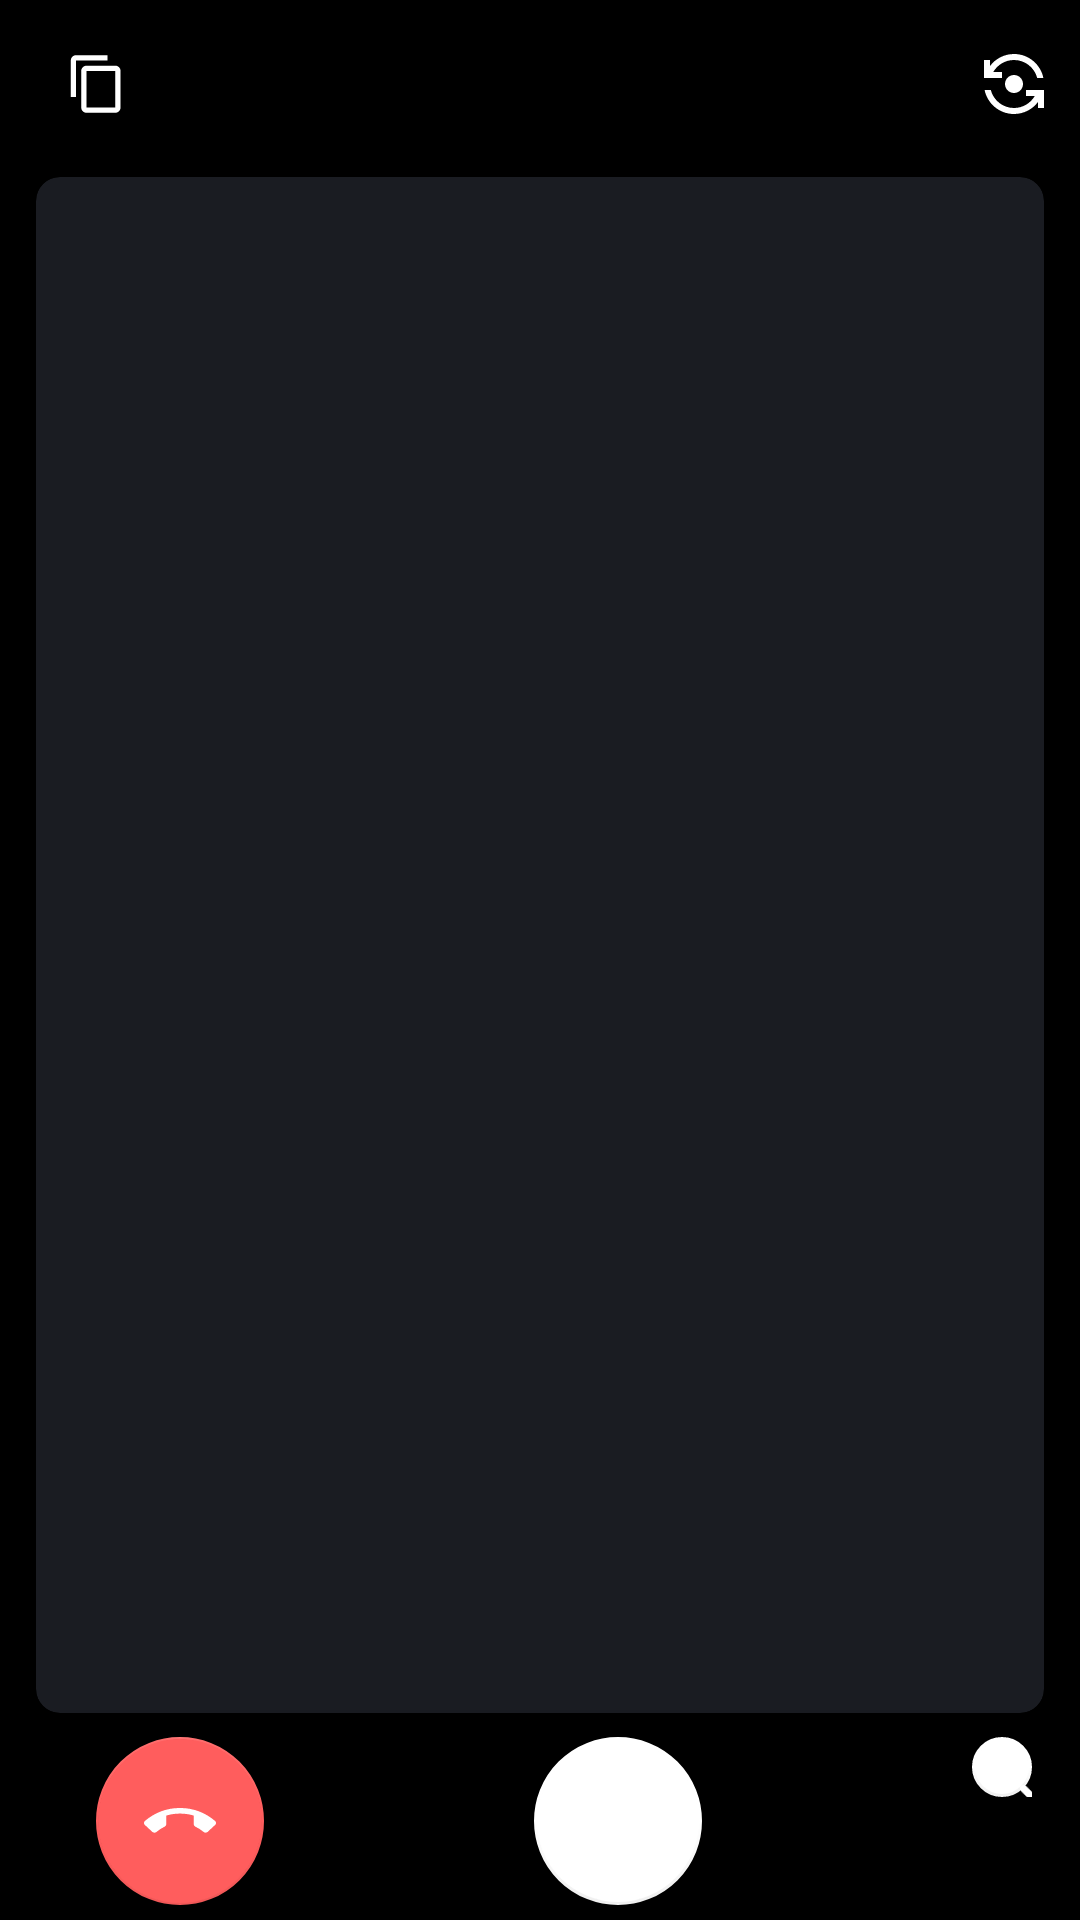

Screen size 1080x1920. Icon name, then its box in pixels as (x1, y1, x2, y2):
Leave Meeting: (96, 1737, 264, 1905)
Switch Camera mode: (984, 54, 1044, 114)
